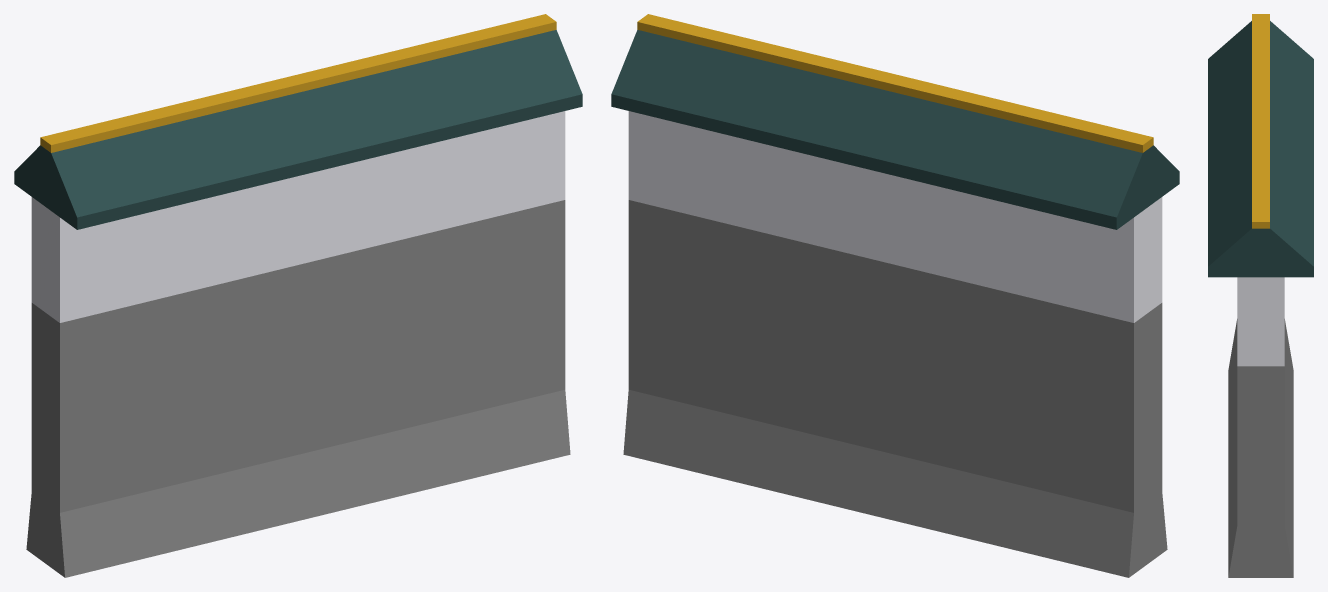
Rendered from Asian_Prop_Building_Fence_Wall_High_03.FBX.
3 views of the same model, side by side, from view 1: azimuth 30°, elevation 25°; view 2: azimuth 150°, elevation 25°; view 3: azimuth 270°, elevation 25° (orthographic). The views are drawn at different scales.
Visible parts, largest first — view 1: Asian_Prop_Building_Fence_Wall_High_03; view 2: Asian_Prop_Building_Fence_Wall_High_03; view 3: Asian_Prop_Building_Fence_Wall_High_03.
Boxes of the visible parts, left/top/right/bottom form: Asian_Prop_Building_Fence_Wall_High_03: left=14, top=14, right=582, bottom=577; Asian_Prop_Building_Fence_Wall_High_03: left=611, top=14, right=1179, bottom=577; Asian_Prop_Building_Fence_Wall_High_03: left=1208, top=14, right=1313, bottom=577.
Size of the model in its own units: 5167 by 4128 by 1112.
